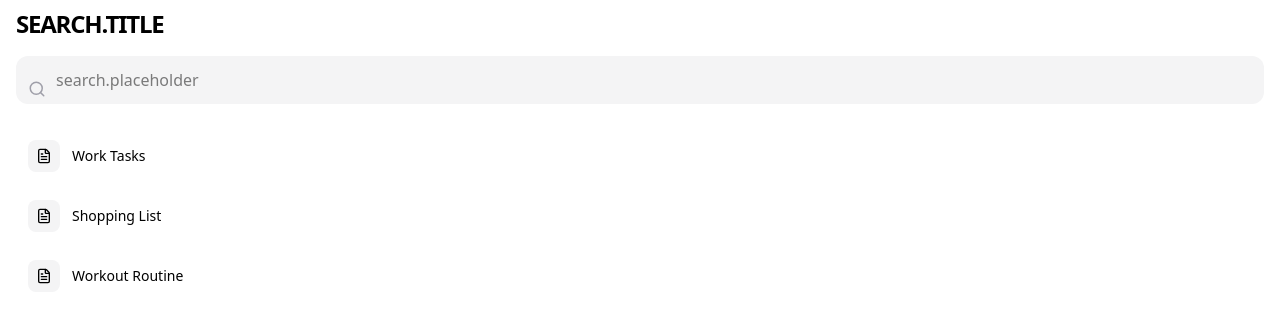
Test: MobileSearchView Component › should filter notes based on the input query (case insensitive)
Note: Type "work" to filter
In the field with placeholder "search.placeholder": {"x": 640, "y": 80} [16,56,1264,104], type "work"
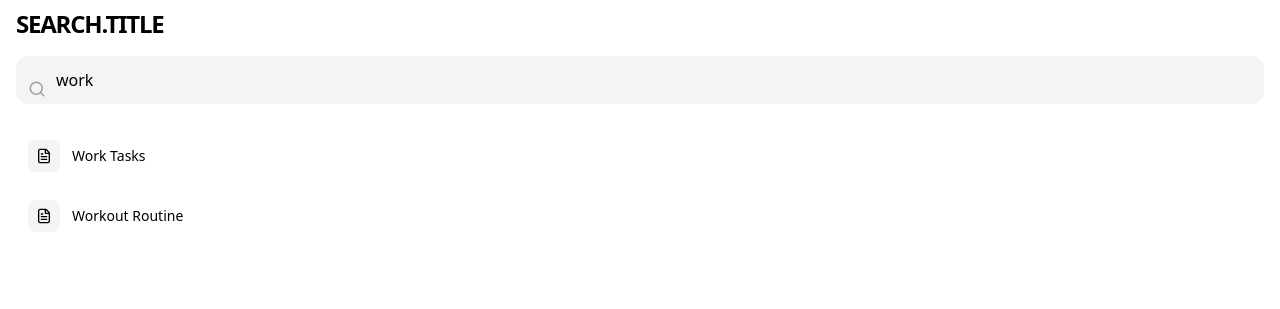
expect the text "Work Tasks" is shown: met, box [72,146,146,166]
expect the button "Shopping List" is gone: met
